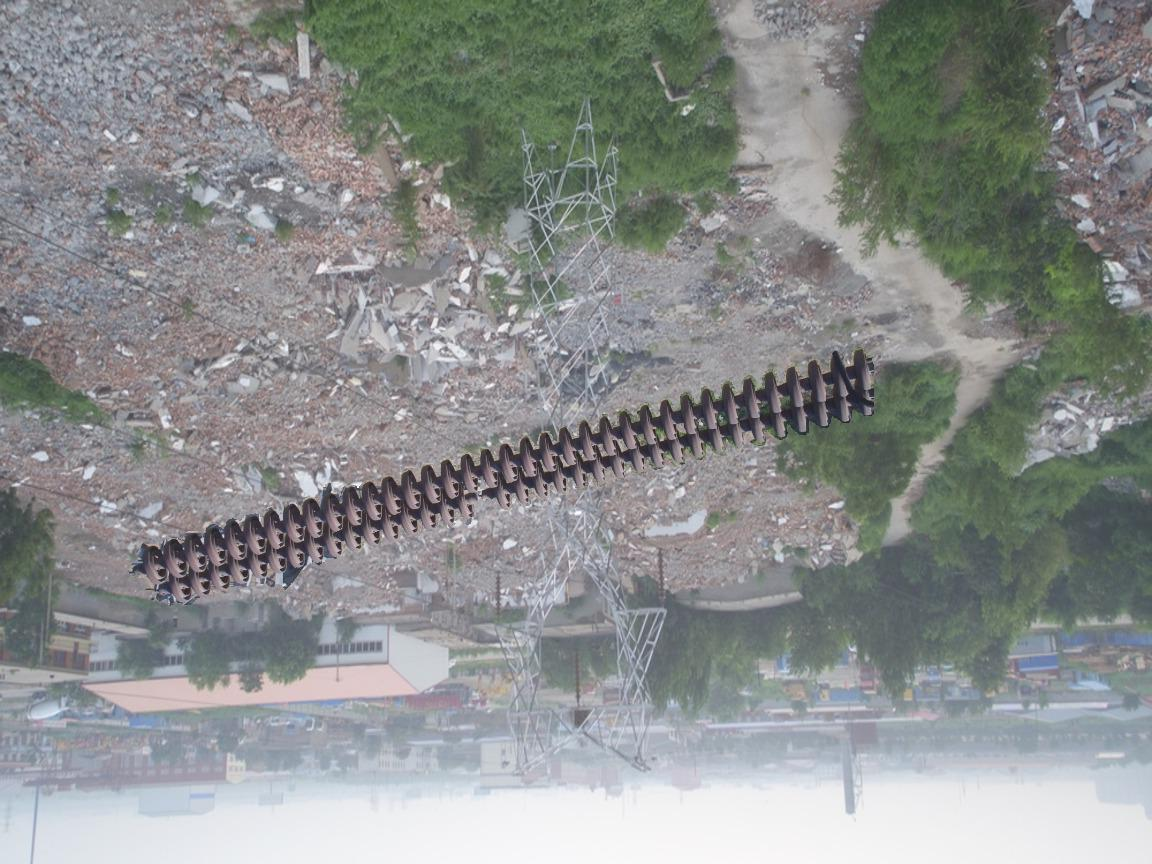insulator: (129, 343, 887, 609)
insulator_stringdrop: (454, 478, 515, 521)
